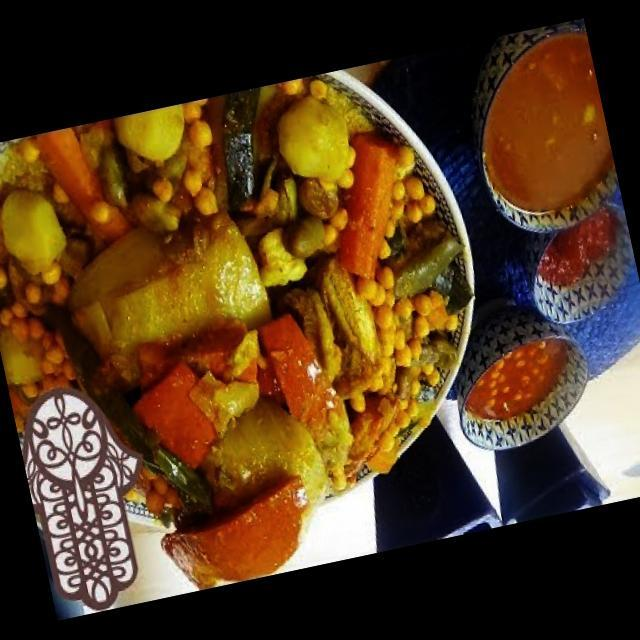Couscous: (0, 47, 527, 620)
